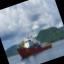fishing boat: (11, 23, 54, 60)
